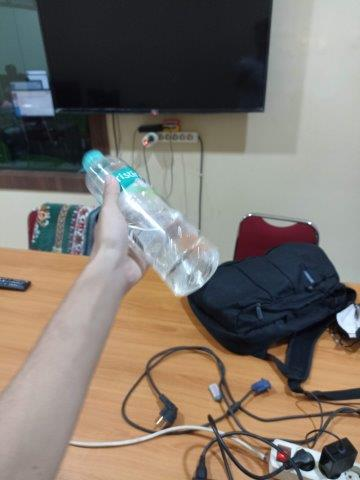botolplastik: (82, 148, 219, 297)
